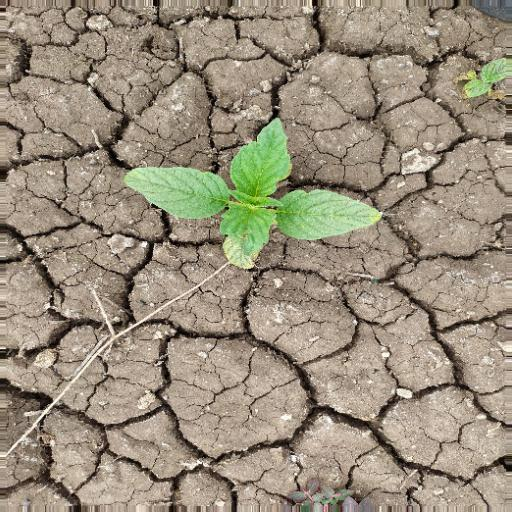crop: (123, 120, 382, 271)
